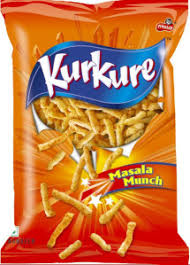kurkure: (34, 39, 158, 99)
plastic: (6, 2, 181, 265)
wrapper: (23, 8, 172, 262)
